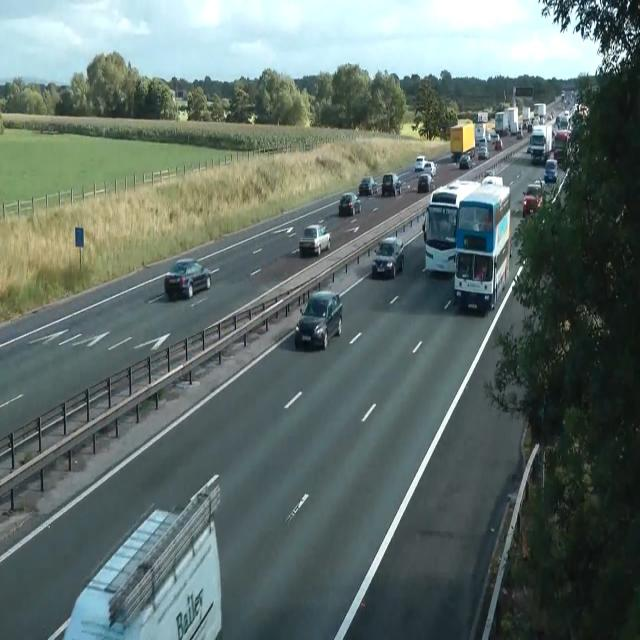bus: (294, 290, 342, 349), (163, 258, 211, 301), (298, 223, 330, 256), (338, 192, 361, 216), (459, 153, 473, 169), (423, 161, 437, 177), (414, 154, 426, 170), (372, 178, 382, 196), (478, 145, 488, 159), (494, 137, 503, 151), (516, 128, 522, 139)
car: (453, 180, 511, 312), (421, 177, 479, 277)
jeep: (372, 236, 404, 279), (522, 180, 544, 217), (381, 172, 401, 196), (358, 175, 376, 196), (543, 158, 558, 182), (417, 172, 433, 193)
minibus: (59, 473, 222, 639), (450, 122, 476, 164), (528, 124, 552, 164), (494, 106, 520, 136), (495, 111, 509, 136), (507, 106, 519, 134), (533, 102, 546, 124), (474, 122, 486, 143), (477, 111, 487, 123)
